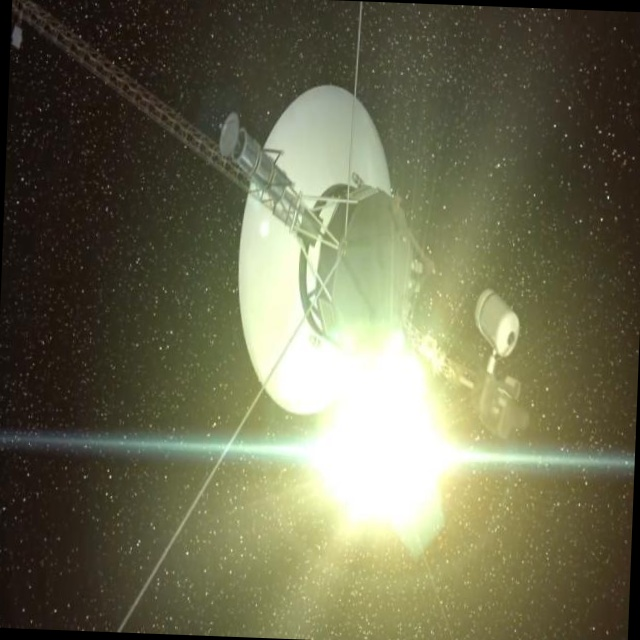satellite: (0, 0, 556, 640)
